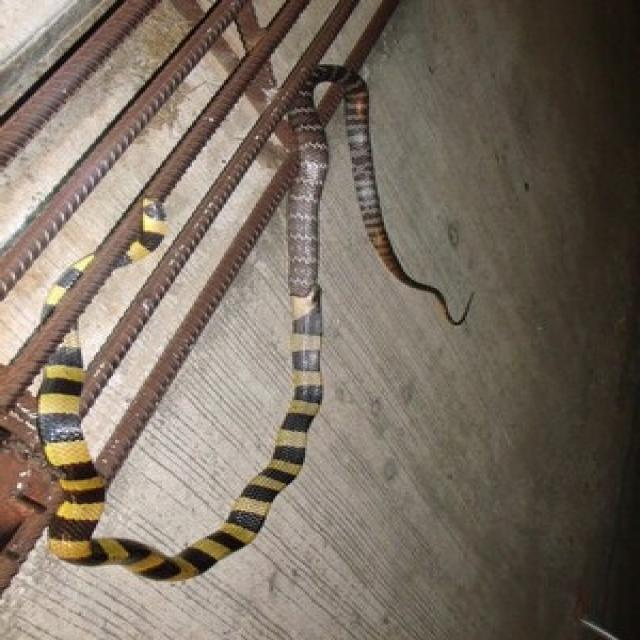Venomous: (129, 192, 180, 254)
